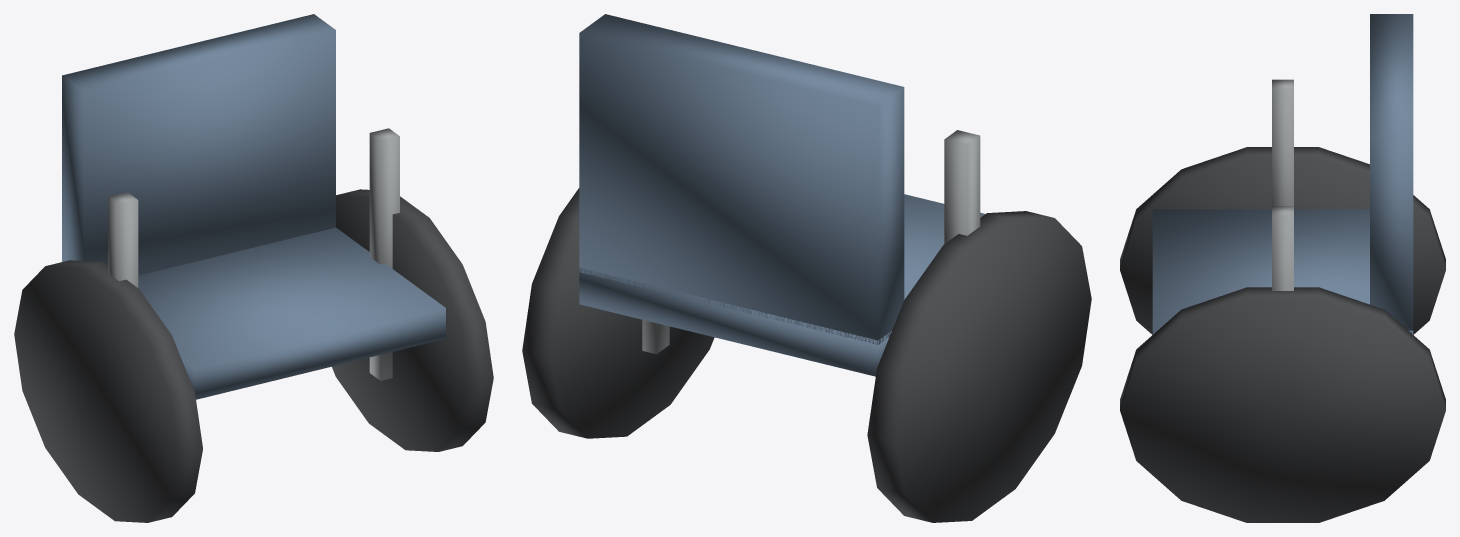
Rendered from wheelchair__squat.glb.
3 renders of one model, left to right at view 1: azimuth 30°, elevation 25°; view 2: azimuth 150°, elevation 25°; view 3: azimuth 270°, elevation 25°, orthographic. The views are drawn at different scales.
Visible parts, largest first — view 1: world; view 2: world; view 3: world.
Part boxes in pixels (x1,y1,x2,y2): world: [14, 14, 493, 522]; world: [522, 14, 1091, 522]; world: [1120, 14, 1445, 522].
Size of the model in its own units: 0.715 by 0.8169 by 0.648.
